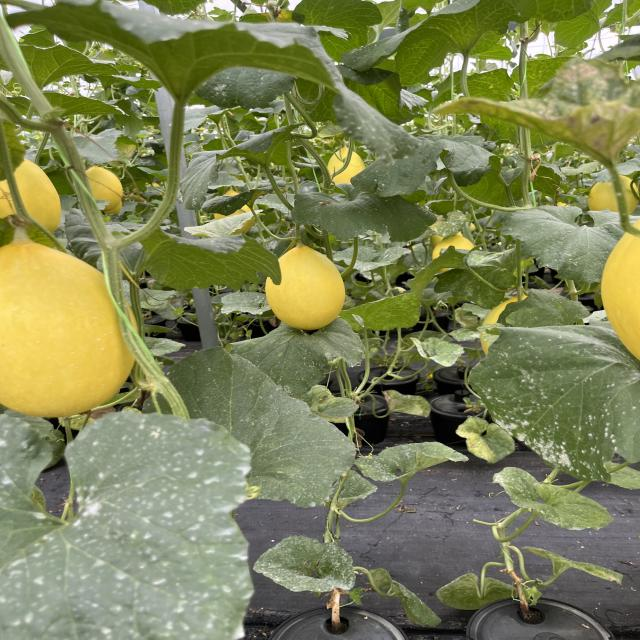downy mildew: (229, 311, 364, 395), (341, 284, 430, 334)
powdery mildew: (0, 401, 279, 640), (460, 309, 640, 480), (493, 463, 617, 541), (249, 532, 378, 596), (354, 434, 471, 489)
